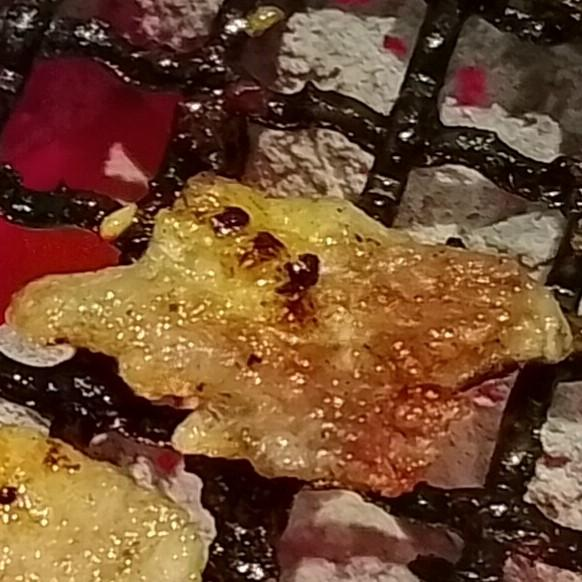Well-Cooked: (10, 172, 568, 502), (0, 423, 210, 581)
